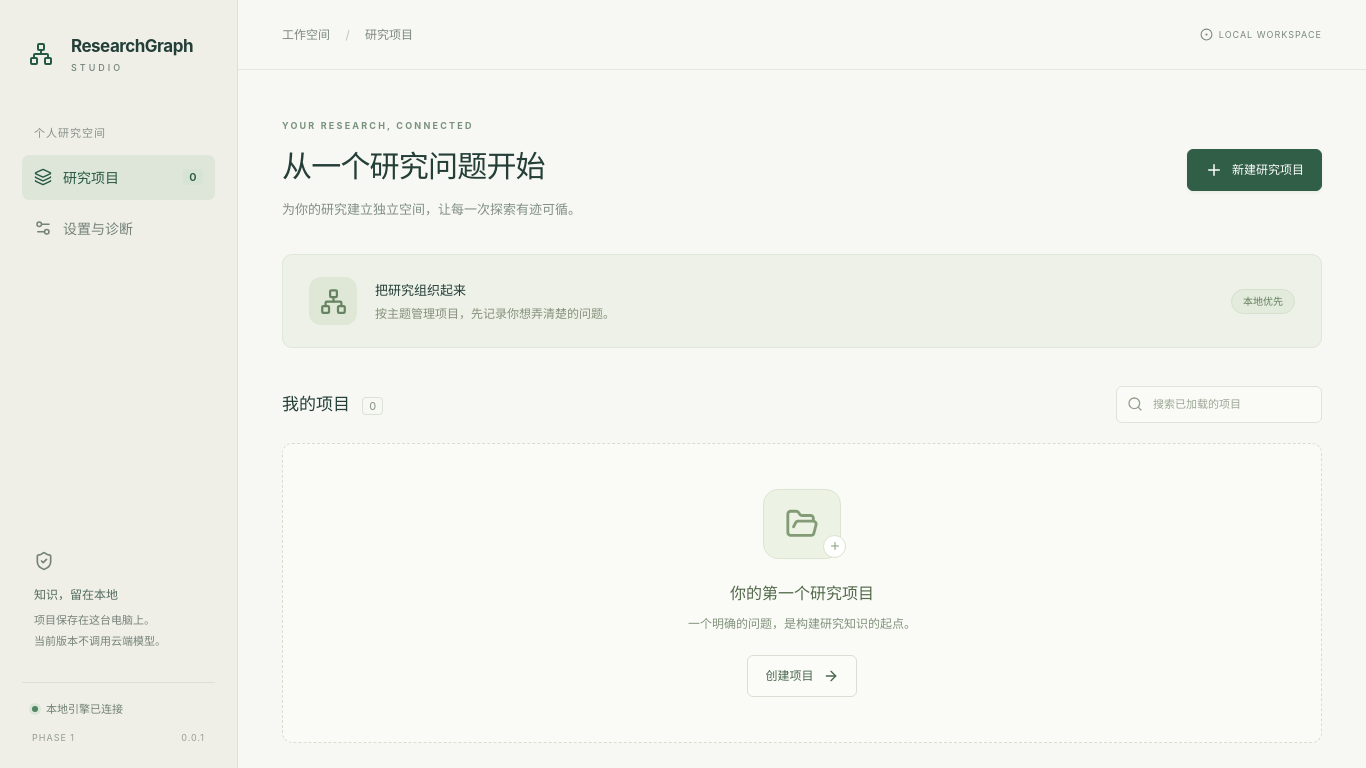
create project persists via API and shows saved project
Expected: the heading "你的第一个研究项目" is shown, [730, 581, 874, 605]
Click the button "新建研究项目".
click(1254, 170)  # box [1187, 149, 1322, 191]
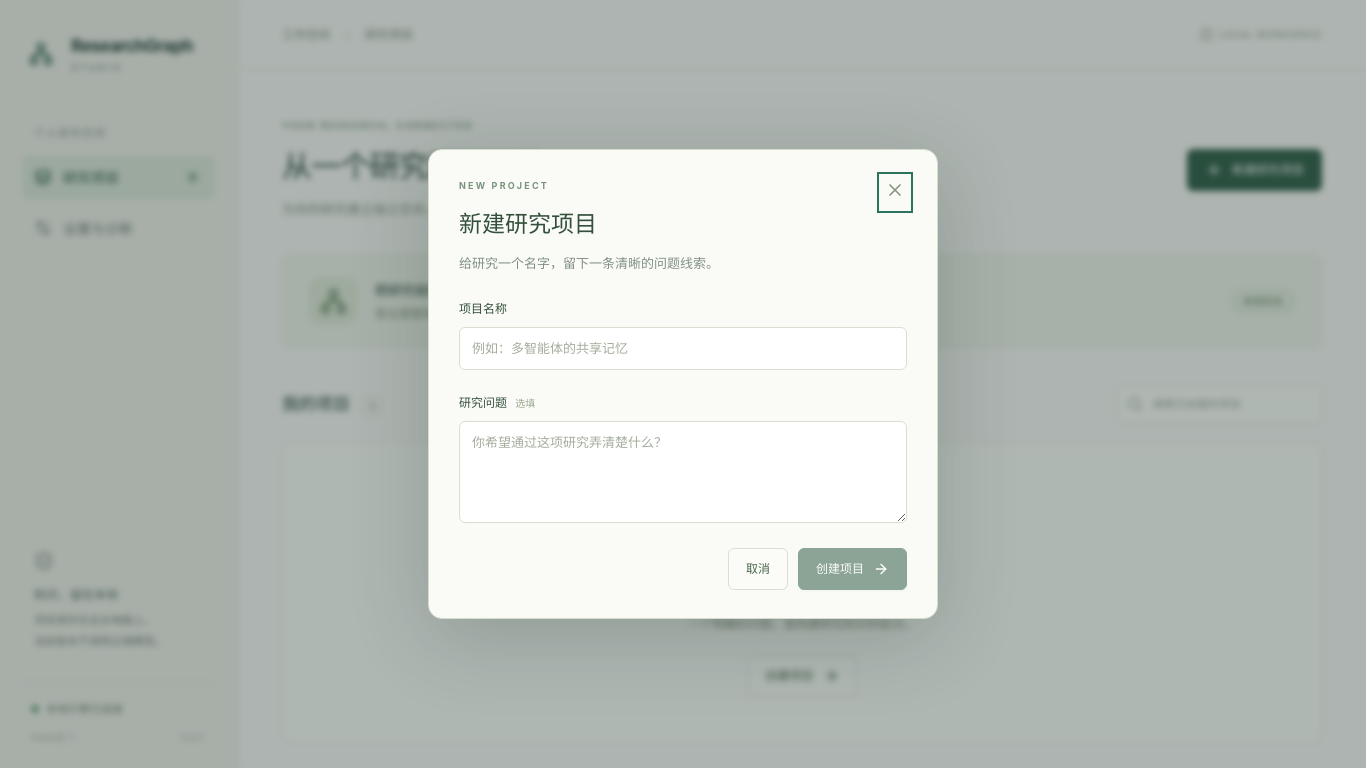
Type "研究一" into the field labelled "项目名称".
click(683, 349); type("研究一")  # box [459, 327, 907, 370]
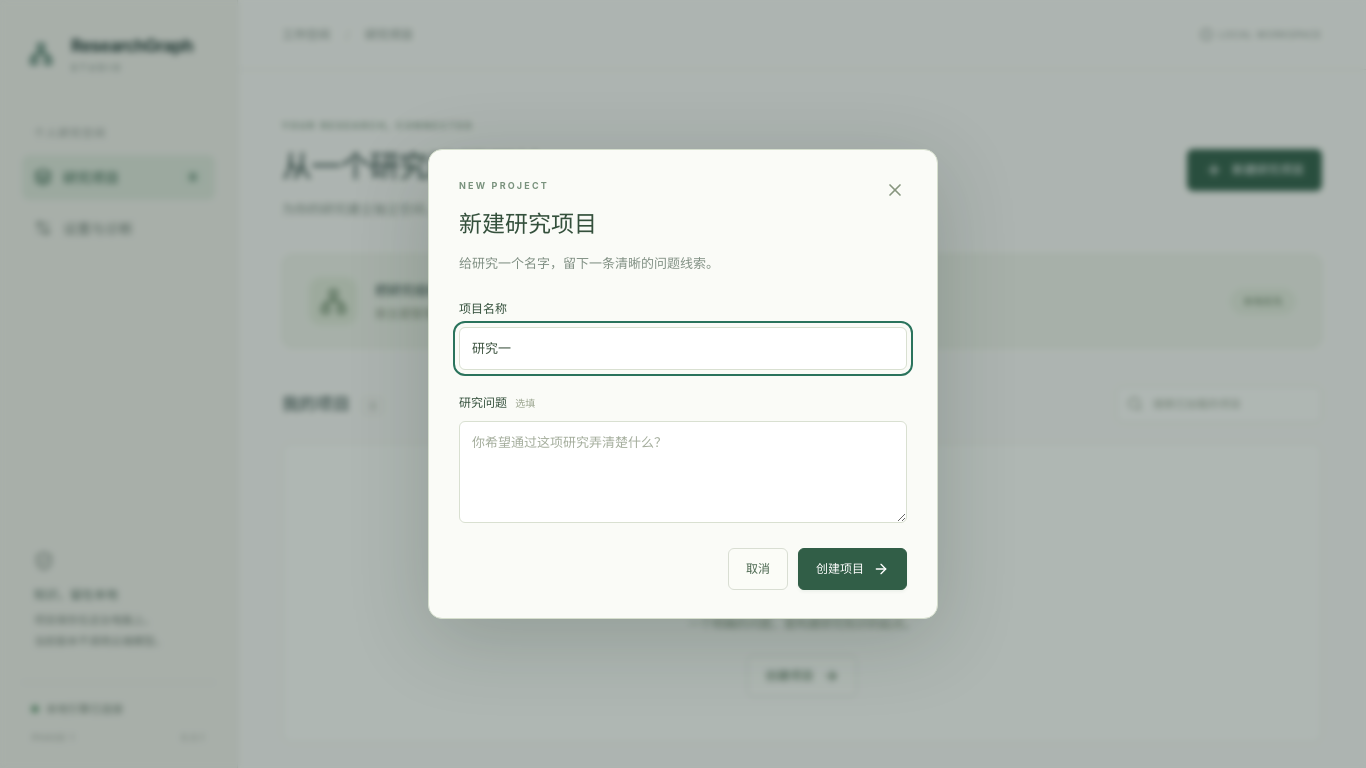
Click the button "创建项目".
click(852, 569)  # box [798, 548, 907, 590]
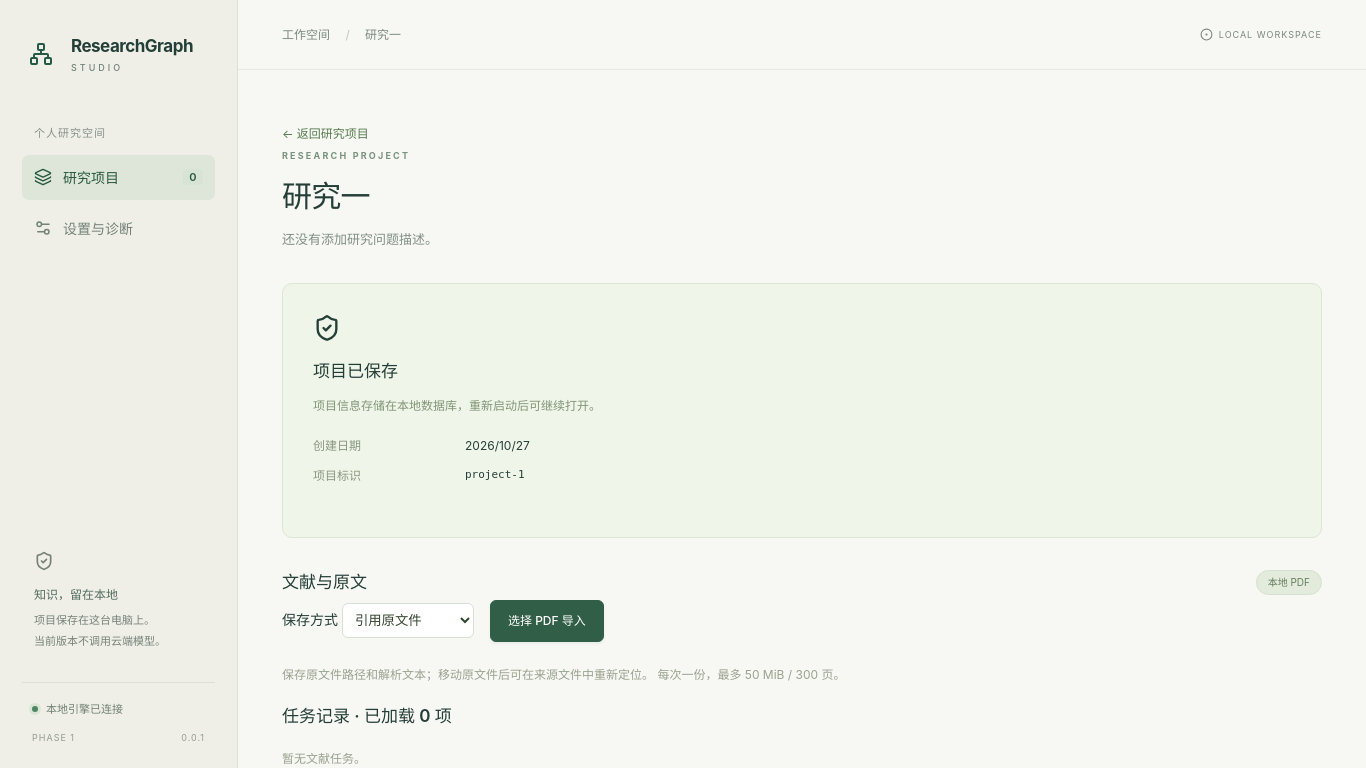
Result: the heading "项目已保存" is shown at [313, 361, 398, 381]
